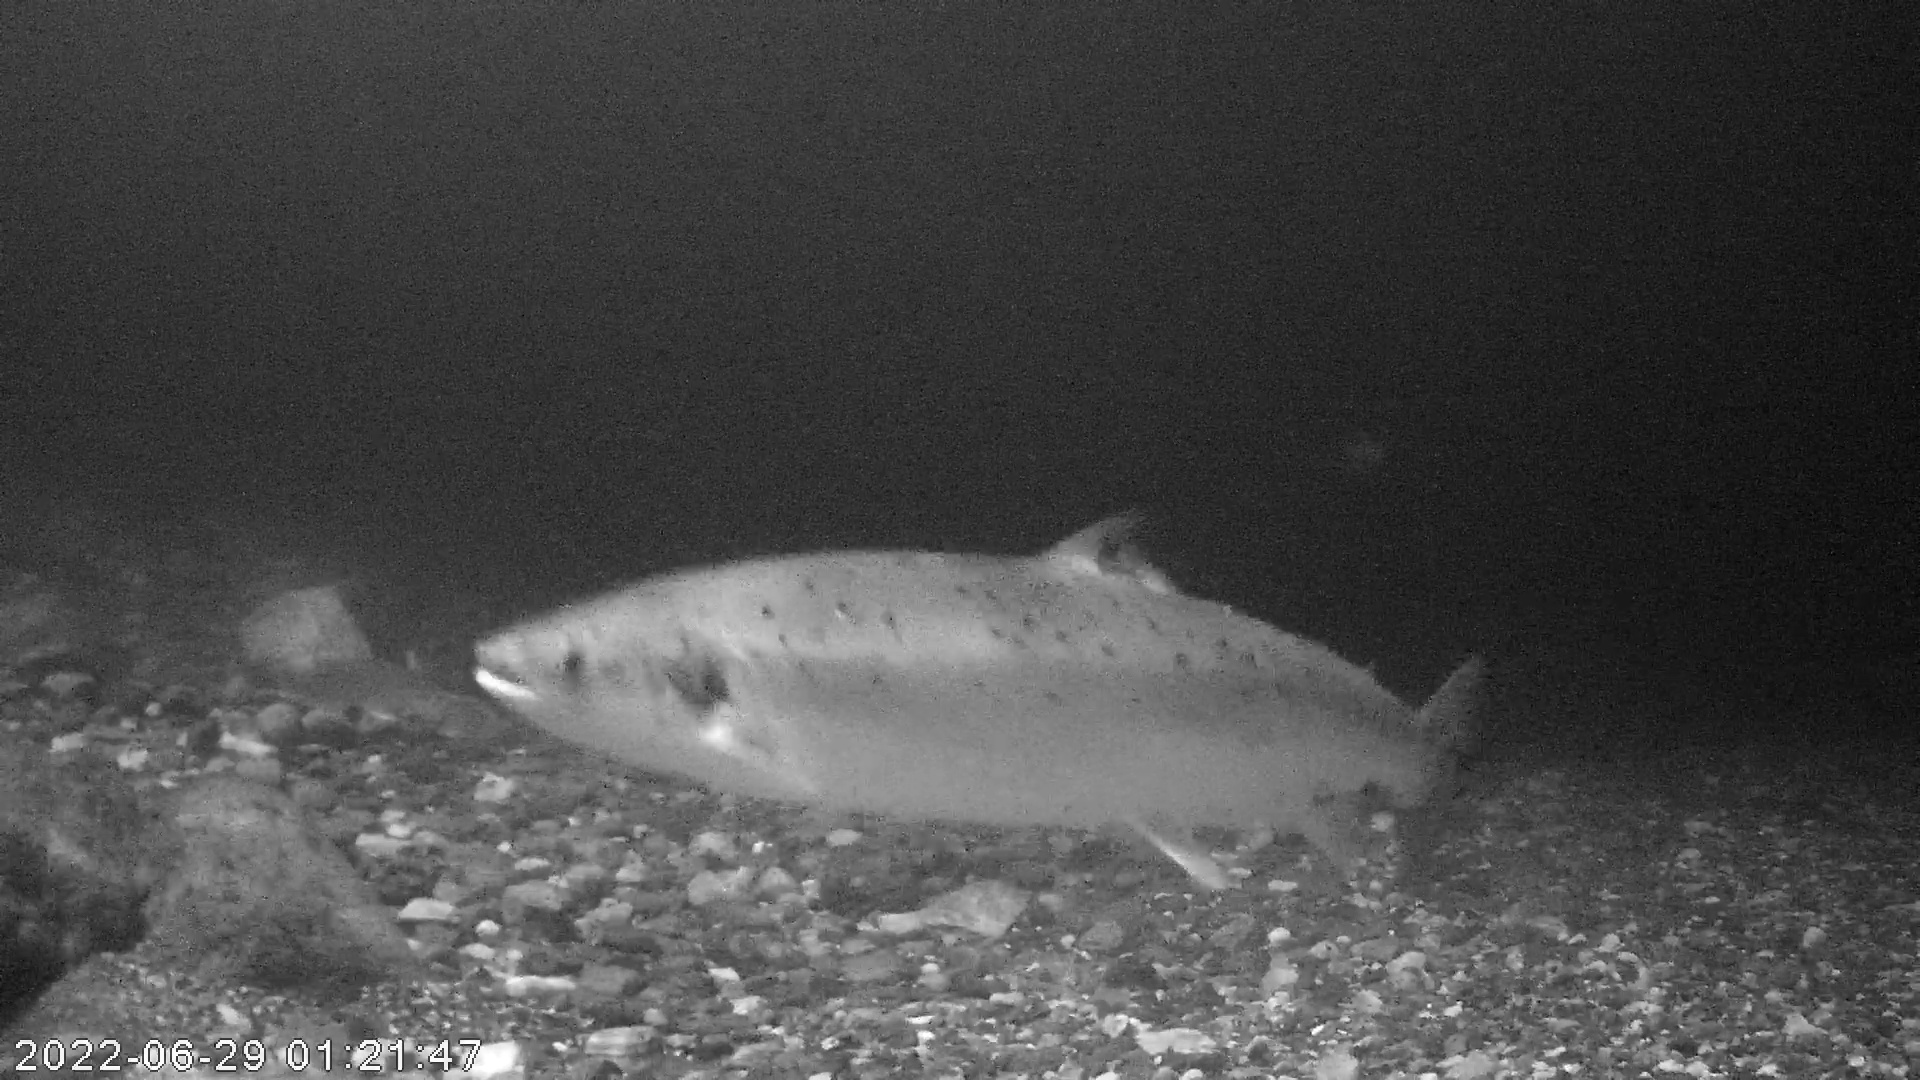salmon: (462, 501, 1491, 895)
